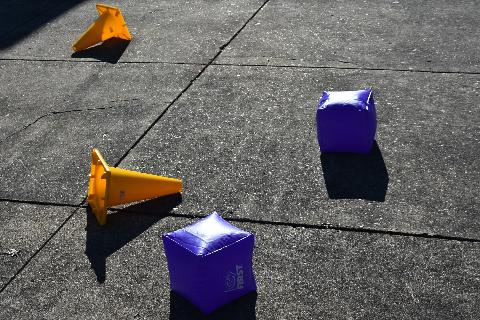cone: (86, 148, 182, 226), (72, 3, 132, 53)
cube: (161, 211, 259, 317), (316, 88, 378, 156)
